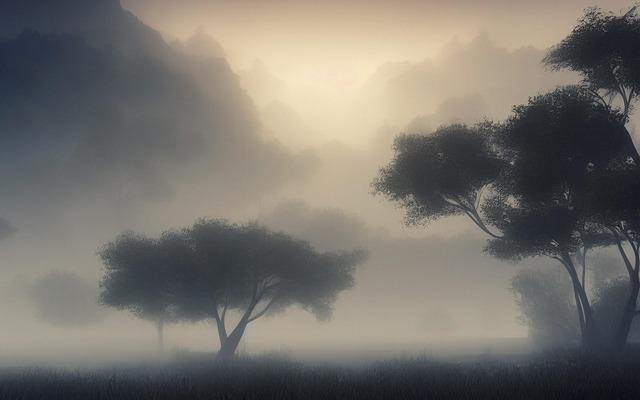Non_Gorille: (60, 19, 585, 341)
